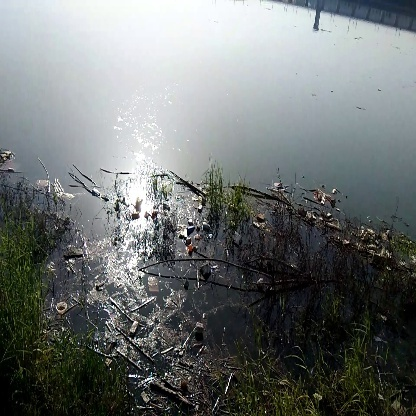branch: (144, 249, 291, 291)
